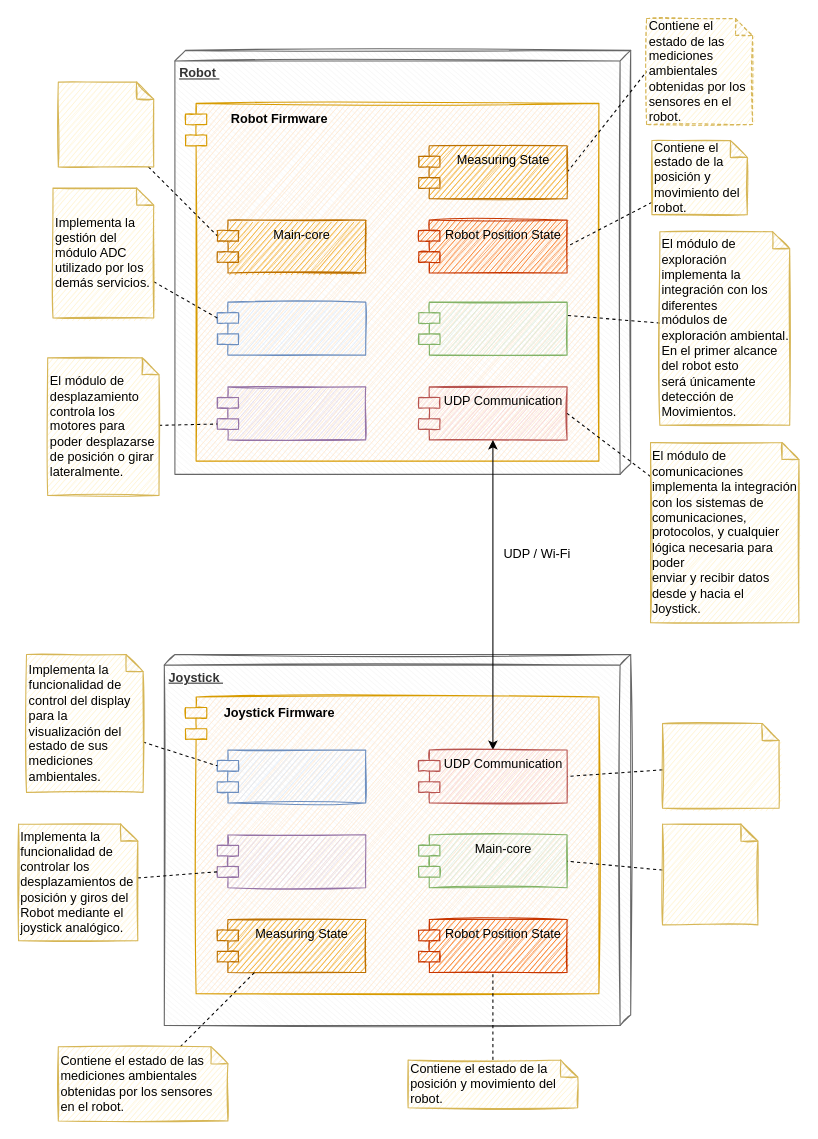
The diagram is 818 pixels wide and 1139 high, and some of its shapes have lost their labels. Here are the shapes that lost their labels. From the top down, the box of each, then its label:
(57, 81, 154, 167): Orquesta la ejecución de todos los demás módulos.
(216, 301, 366, 355): ADC Service
(418, 301, 567, 355): Measuring Service
(216, 386, 366, 440): Motors Service
(216, 749, 366, 803): Display Service
(661, 722, 779, 808): Implementa la comunicación UDP sobre Wi-Fi entre el robot y el joystick.
(216, 834, 366, 888): Joystick Service
(661, 823, 758, 925): Componente principal desde el cual se orquestan los demás módulos del joystick.
